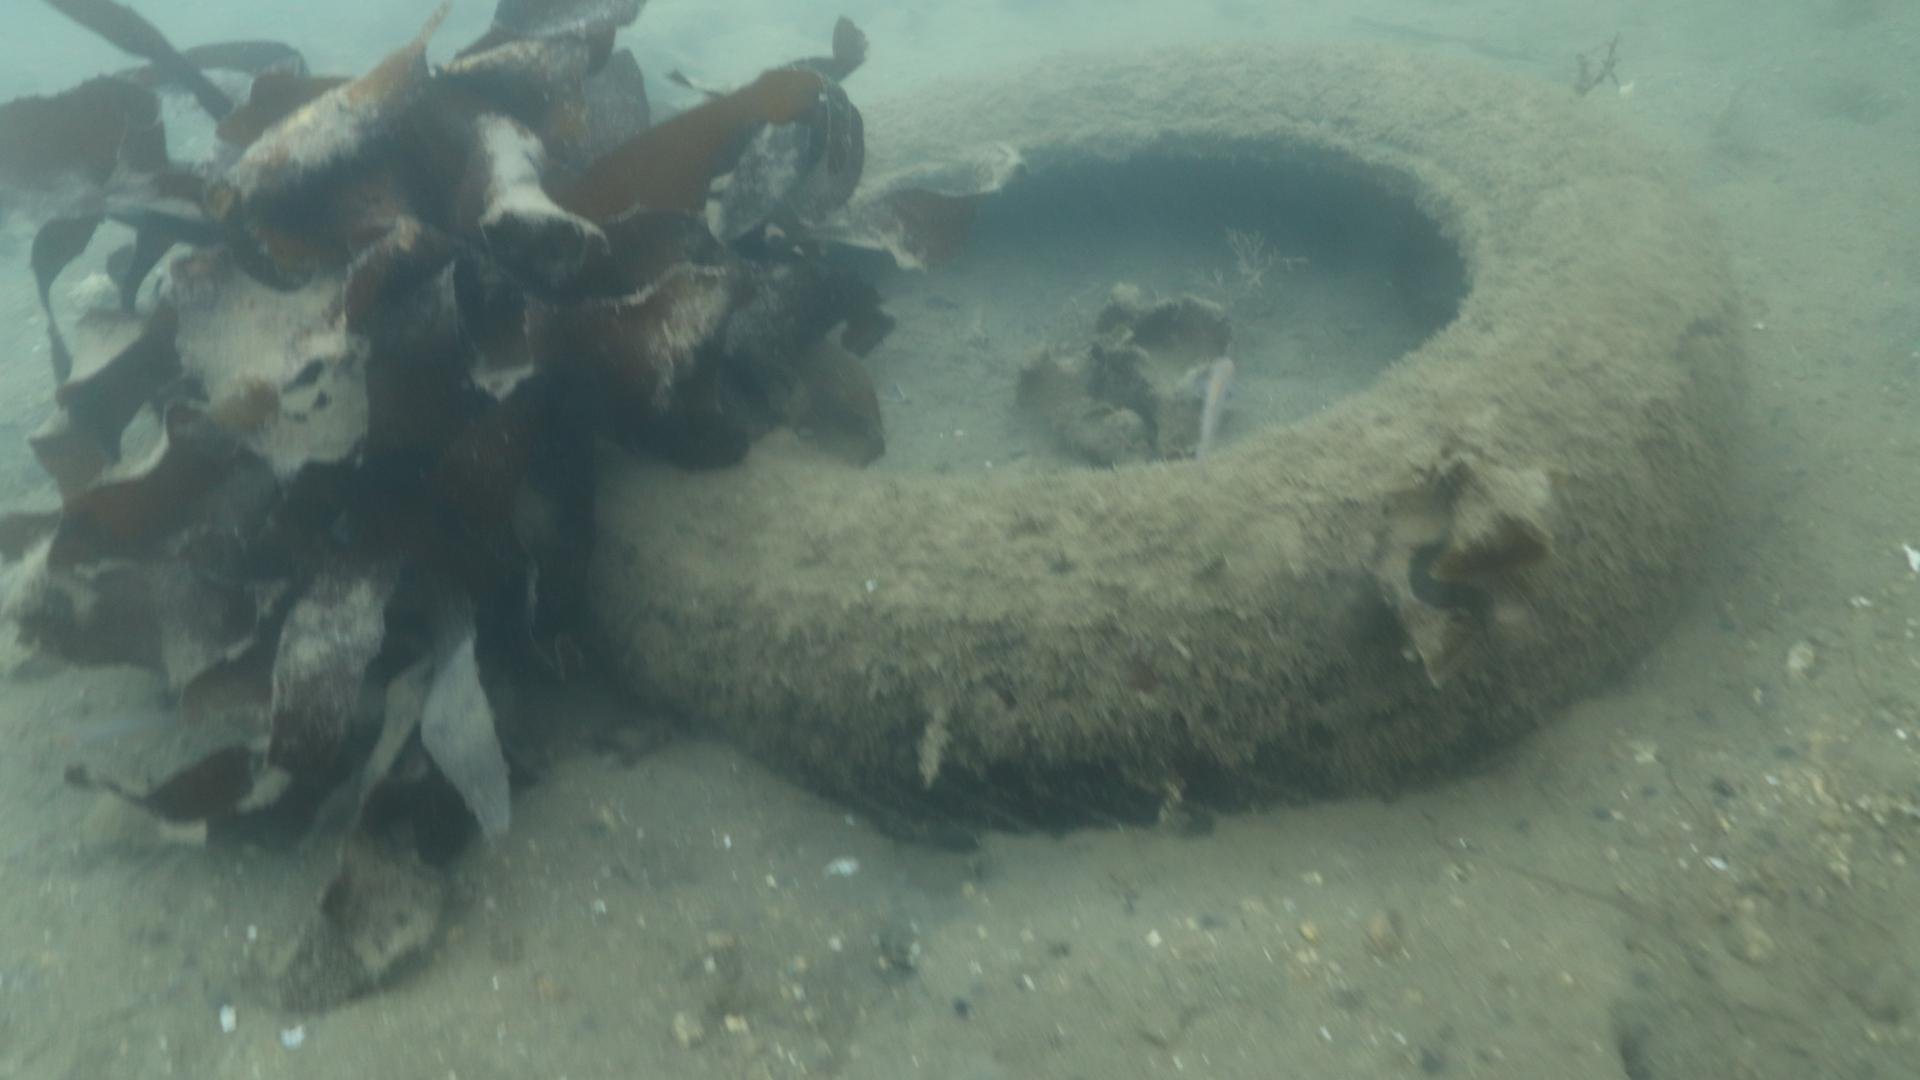tire: (580, 36, 1734, 833)
